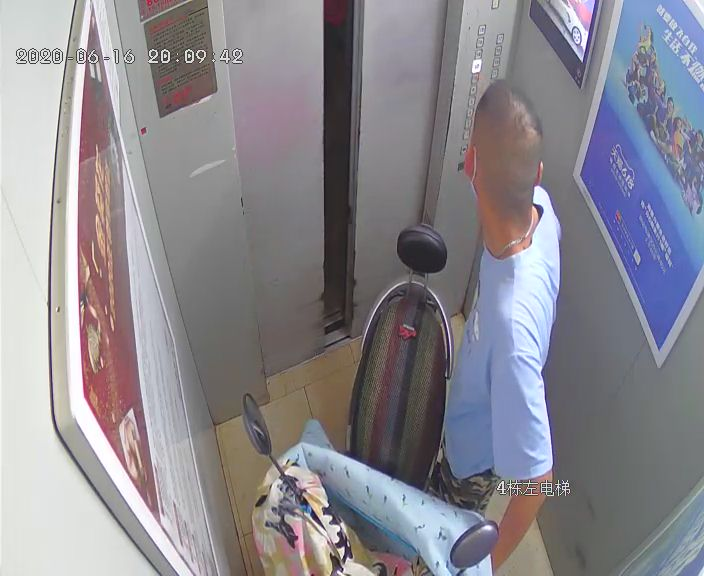Electric-bicycle: (243, 221, 506, 575)
